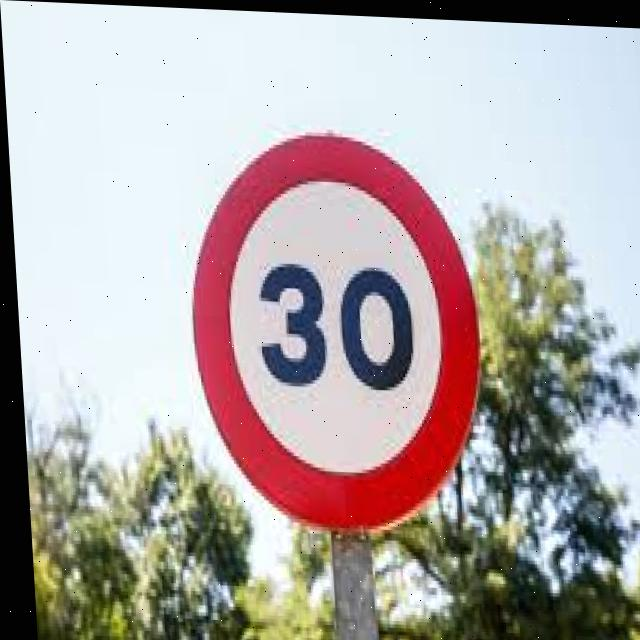Speed limit 30: (176, 119, 488, 538)
